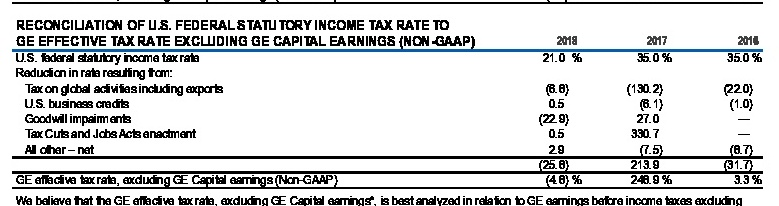table: (0, 0, 779, 206)
